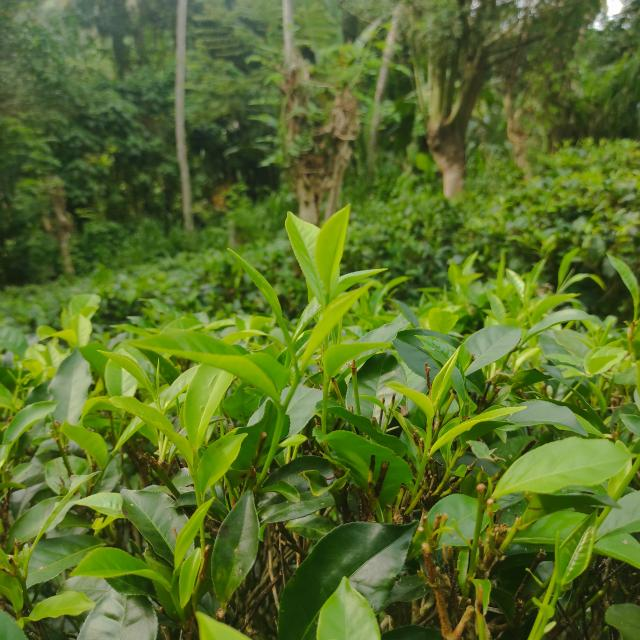unopened_leaf: (218, 239, 295, 348), (148, 352, 170, 408)
